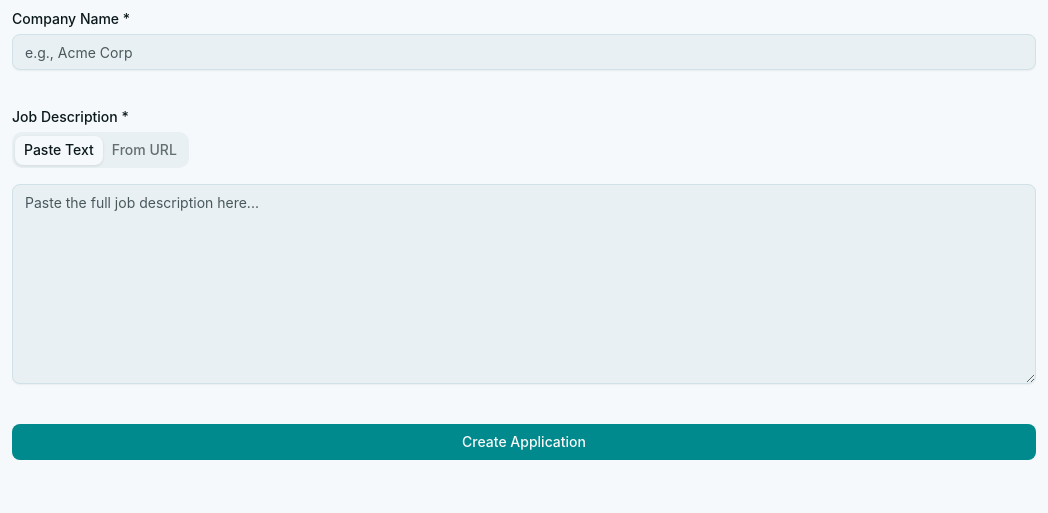
it: JobInputForm › URL mode › shows loading state during fetch
Click the tab "From URL".
click(144, 150)  # box [103,136,186,164]
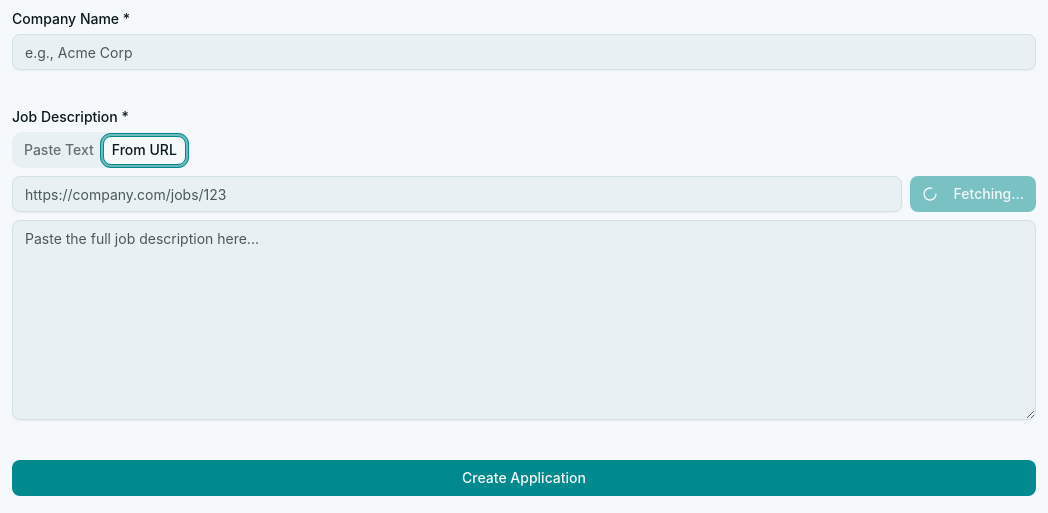
Result: the button "Fetching..." is shown at [910,176,1036,212]
